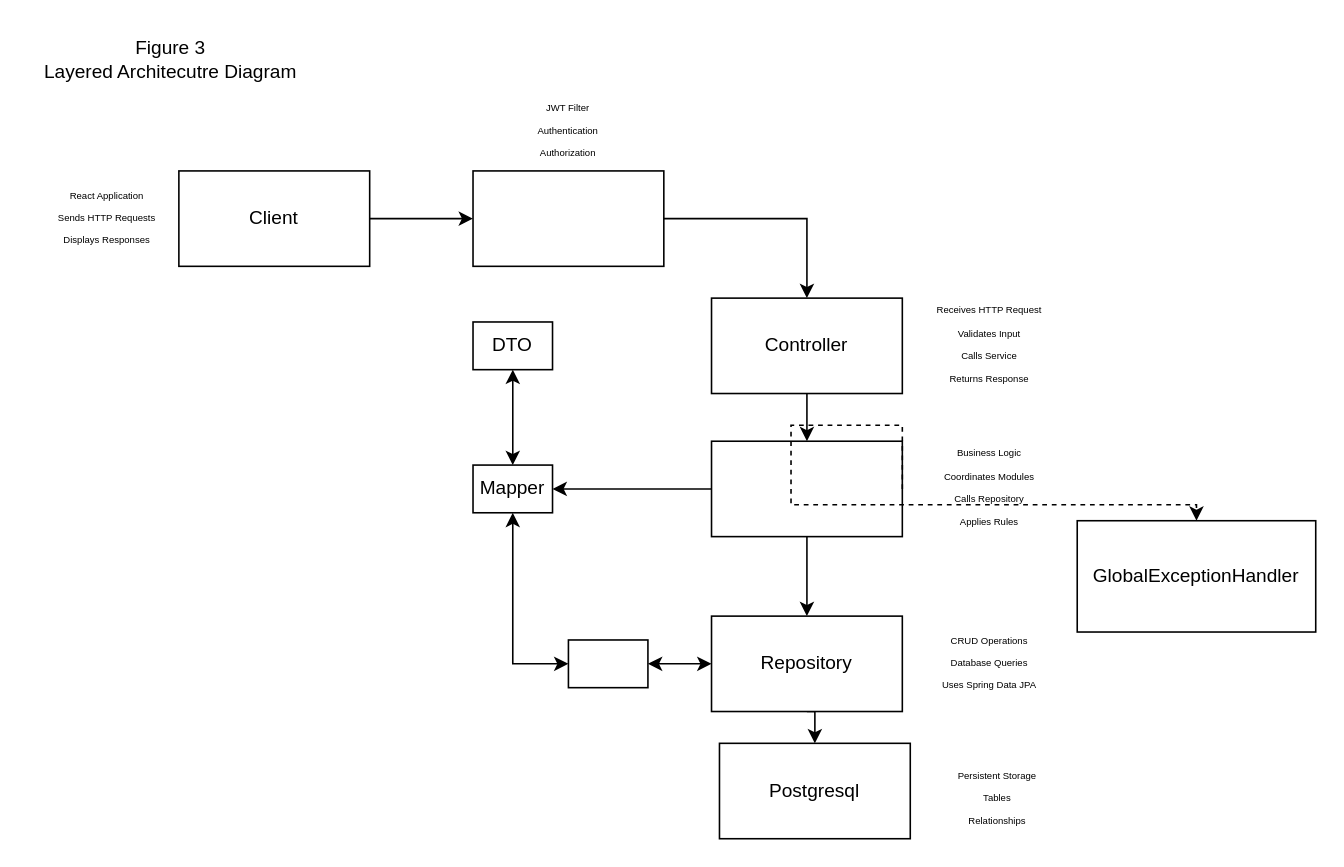
This 1344x867 diagram has some shape labels left out. Each missing label, with the centre of its shape:
"Entity" belongs at point 607,663.
"Service" belongs at point 806,488.
"Sprint Boot Security" belongs at point 567,217.
